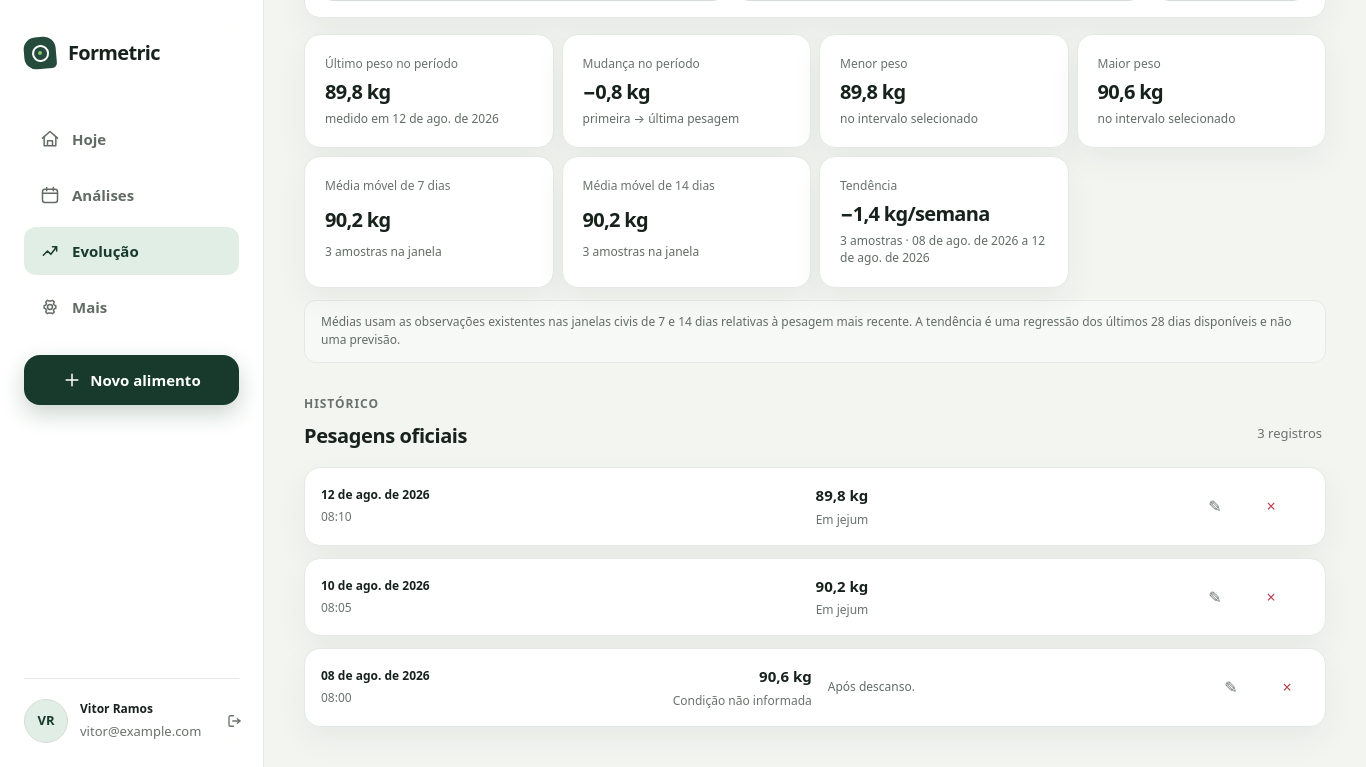
Scenario: histórico de peso › mostra médias e tendência determinísticas e atualiza com version
The image size is (1366, 767).
(page scrolled)
Expected: the text "89,8 kg" below "Último peso no período" is shown, [325,78,390,104]
Expected: the text "Último peso no período" is shown, [325,54,458,72]
Click the button named "Editar pesagem": [1215, 506] box [1193,484,1237,528]
(page scrolled)
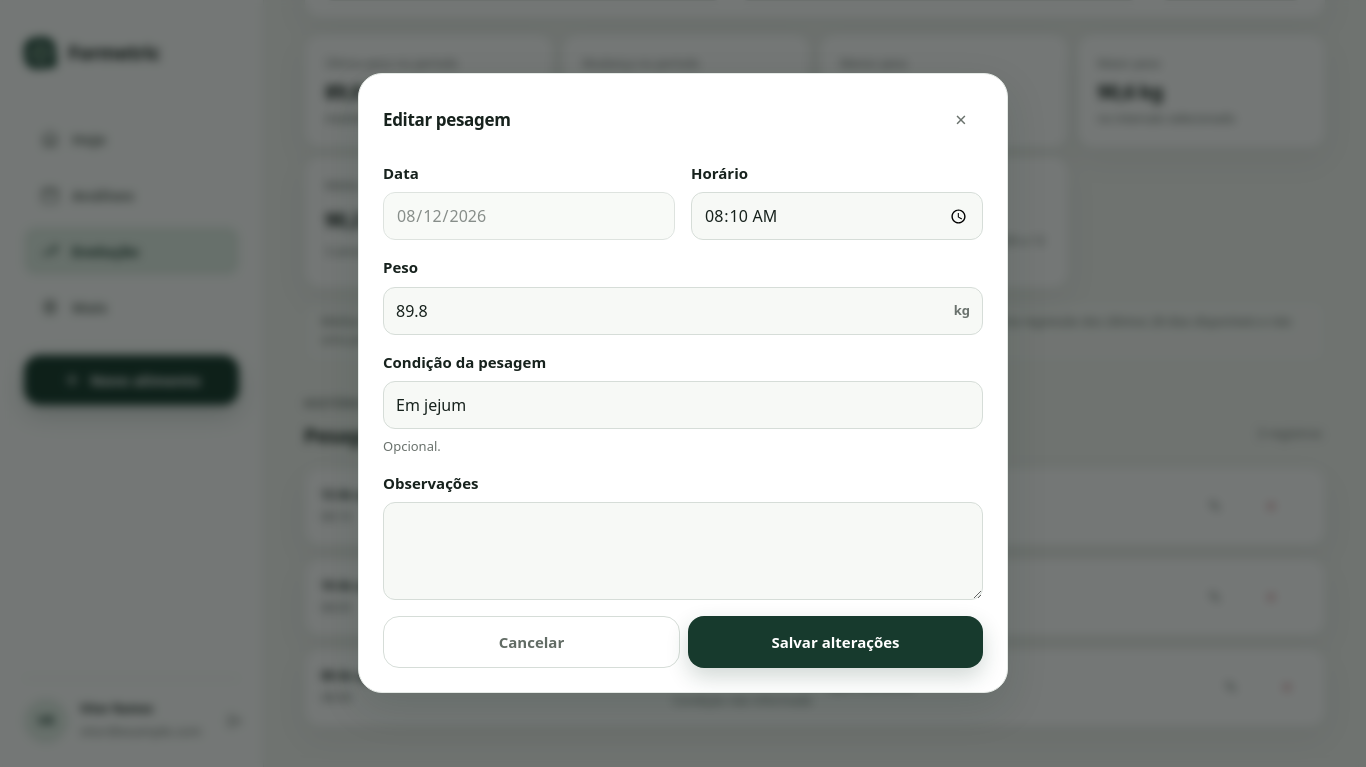
Replace the text in the number field labelled "Peso" with "89.55": [683, 311] box [383,287,983,335]
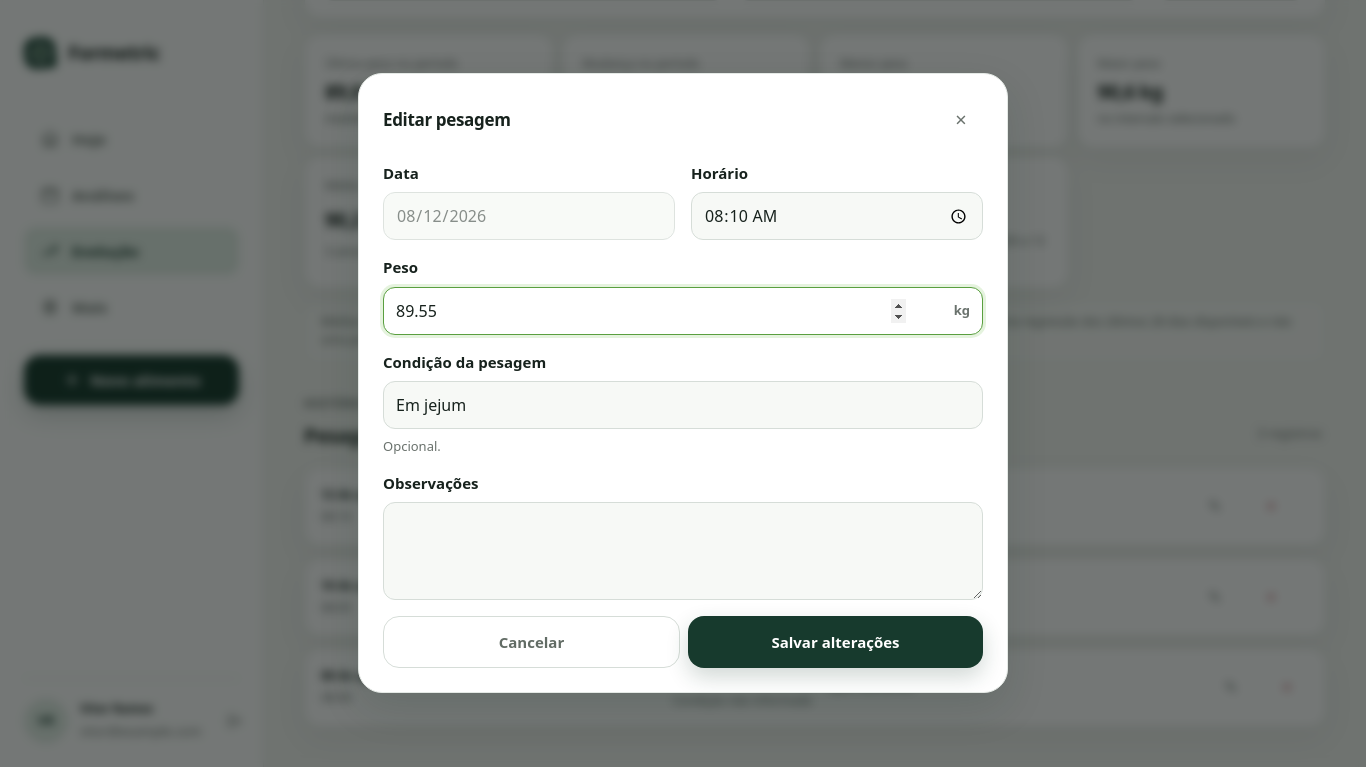
Click the button "Salvar alterações": [836, 642] box [688,616,983,668]
(page scrolled)
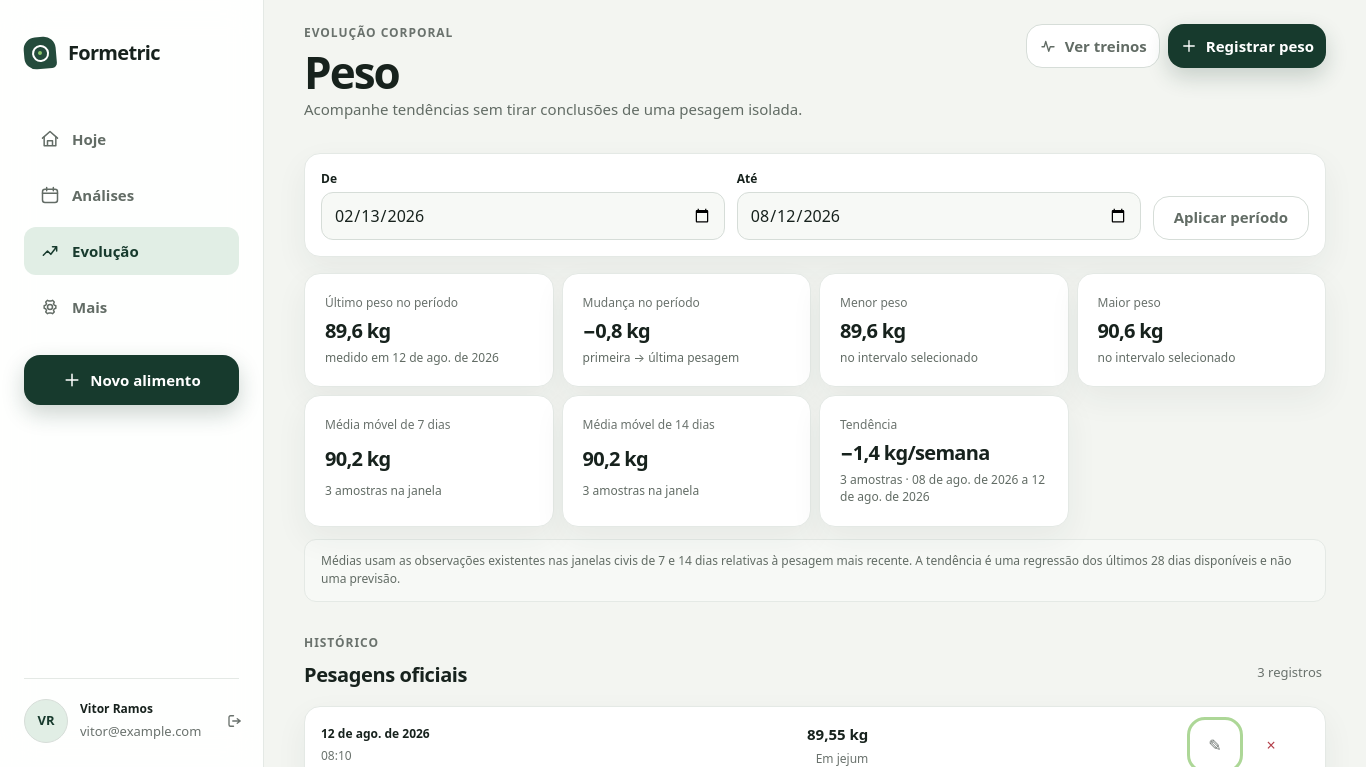
Now the text "89,55 kg" is shown, box [807,724,868,744]
